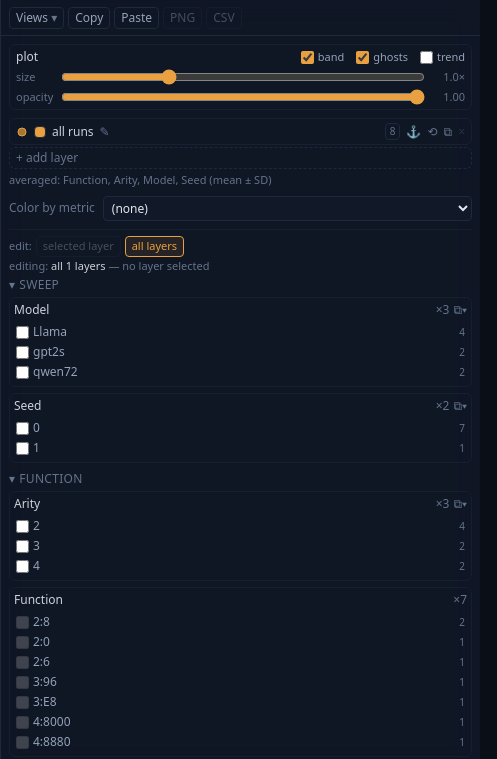
Scenario: layers strip › Escape cancels a rename; blur with an empty draft keeps the previous name
Click the button named "rename layer all runs" at [105, 132], box [100,124,110,140]
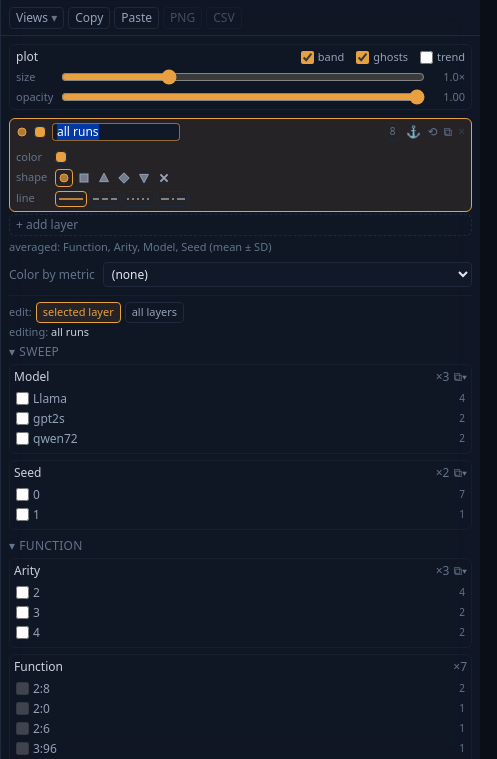
Replace the text in the field named "layer name" with "discarded" at [116, 132], box [52,123,180,141]
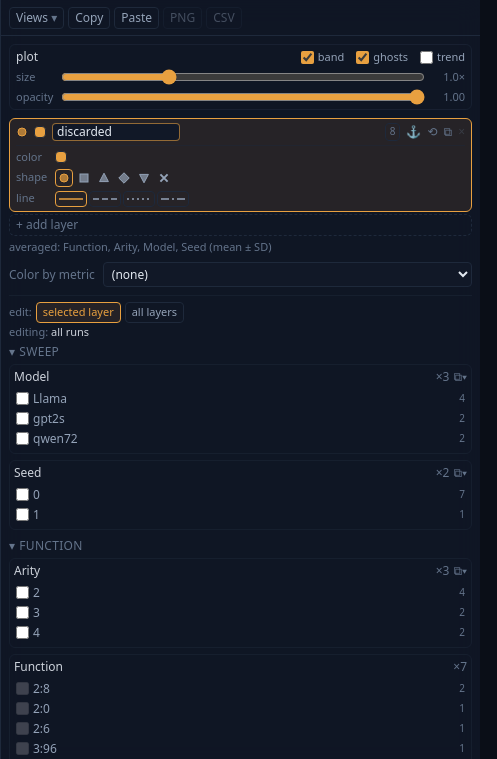
Press Escape in the field named "layer name", box [52,123,180,141]
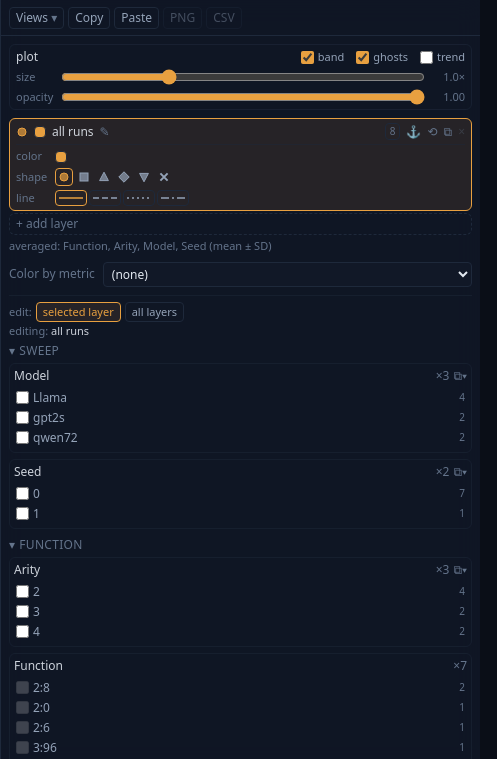
Check: the button "all runs" is shown, box [52,124,94,140]
Click the button named "rename layer all runs" at [105, 132], box [100,124,110,140]
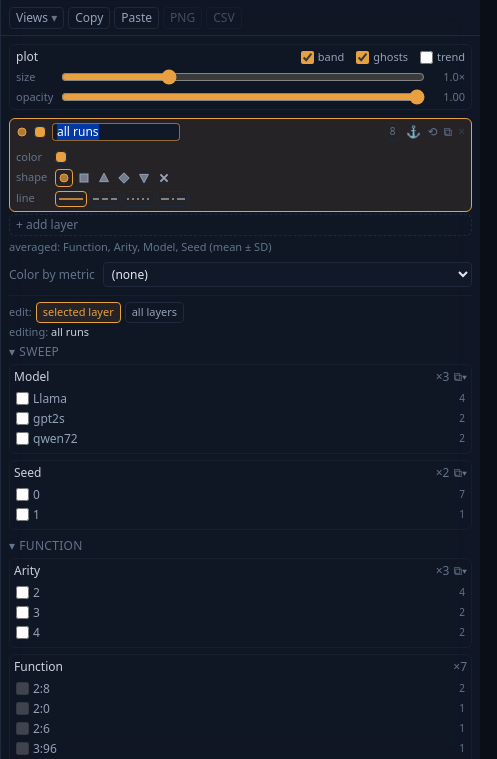
Clear the field named "layer name" at [116, 132], box [52,123,180,141]
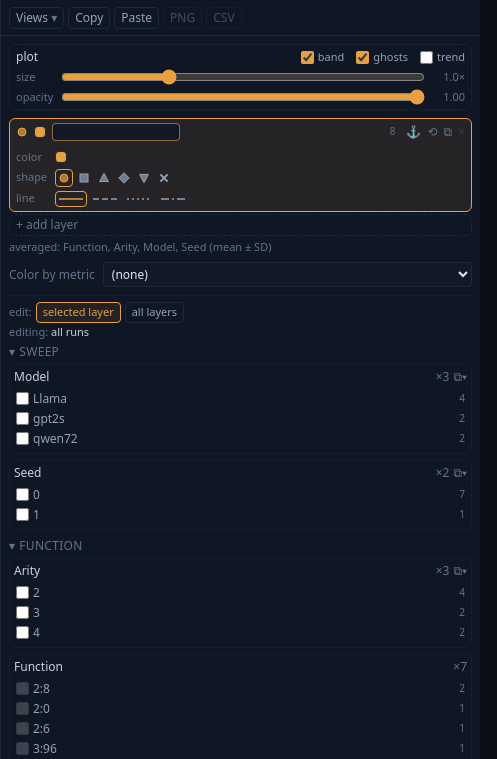
Leave the field named "layer name", box [52,123,180,141]
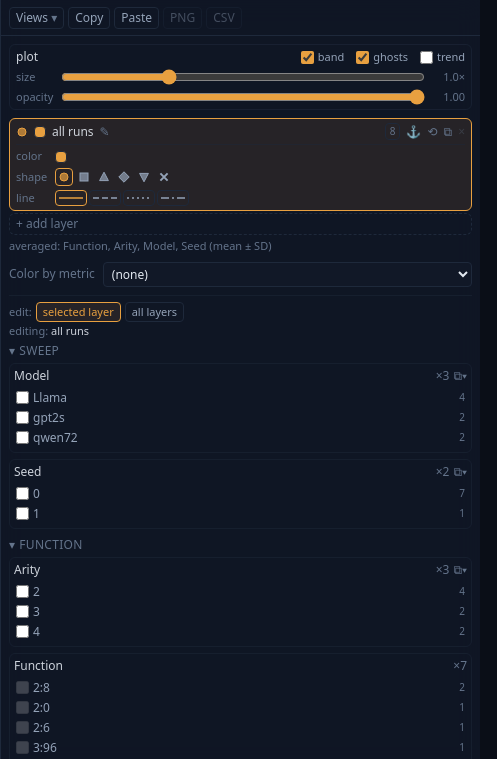
Check: the button "all runs" is shown, box [52,124,94,140]
